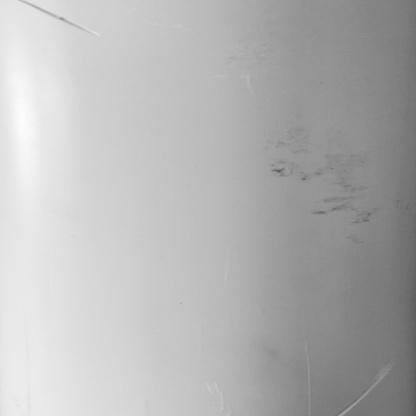sunshang: (6, 1, 109, 43), (335, 361, 398, 415)
